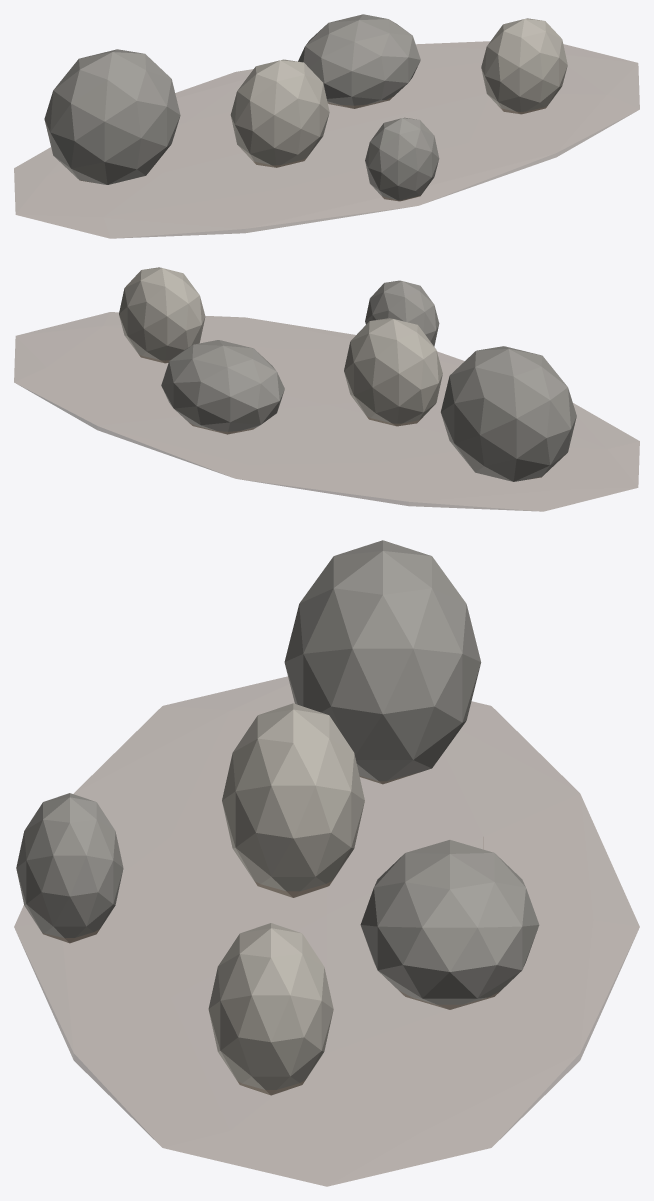
The model's file is env_pebble_cluster_v1.glb.
3 views of the same model, one above another, from view 1: azimuth 30°, elevation 25°; view 2: azimuth 150°, elevation 25°; view 3: azimuth 270°, elevation 25° (orthographic). The views are drawn at different scales.
Visible parts, largest first — view 1: cluster_soft_shadow, rounded_pebble_0, rounded_pebble_1, rounded_pebble_2, rounded_pebble_3, rounded_pebble_4; view 2: cluster_soft_shadow, rounded_pebble_0, rounded_pebble_2, rounded_pebble_1, rounded_pebble_3, rounded_pebble_4; view 3: cluster_soft_shadow, rounded_pebble_0, rounded_pebble_2, rounded_pebble_1, rounded_pebble_3, rounded_pebble_4.
Part boxes in pixels (box(x1,y1,x2,y2)): cluster_soft_shadow: box(14, 41, 639, 238); rounded_pebble_0: box(44, 49, 180, 184); rounded_pebble_1: box(230, 59, 329, 167); rounded_pebble_2: box(298, 14, 420, 108); rounded_pebble_3: box(481, 18, 567, 114); rounded_pebble_4: box(365, 117, 439, 201); cluster_soft_shadow: box(14, 312, 639, 511); rounded_pebble_0: box(440, 346, 576, 481); rounded_pebble_2: box(161, 340, 284, 434); rounded_pebble_1: box(344, 318, 442, 426); rounded_pebble_3: box(119, 267, 205, 363); rounded_pebble_4: box(365, 280, 439, 346); cluster_soft_shadow: box(14, 676, 639, 1186); rounded_pebble_0: box(284, 540, 481, 784); rounded_pebble_2: box(360, 840, 539, 1009); rounded_pebble_1: box(222, 703, 364, 897); rounded_pebble_3: box(208, 923, 333, 1095); rounded_pebble_4: box(16, 793, 123, 943).
Bounding box in the file's own units: 1.1 × 0.22 × 0.56.
